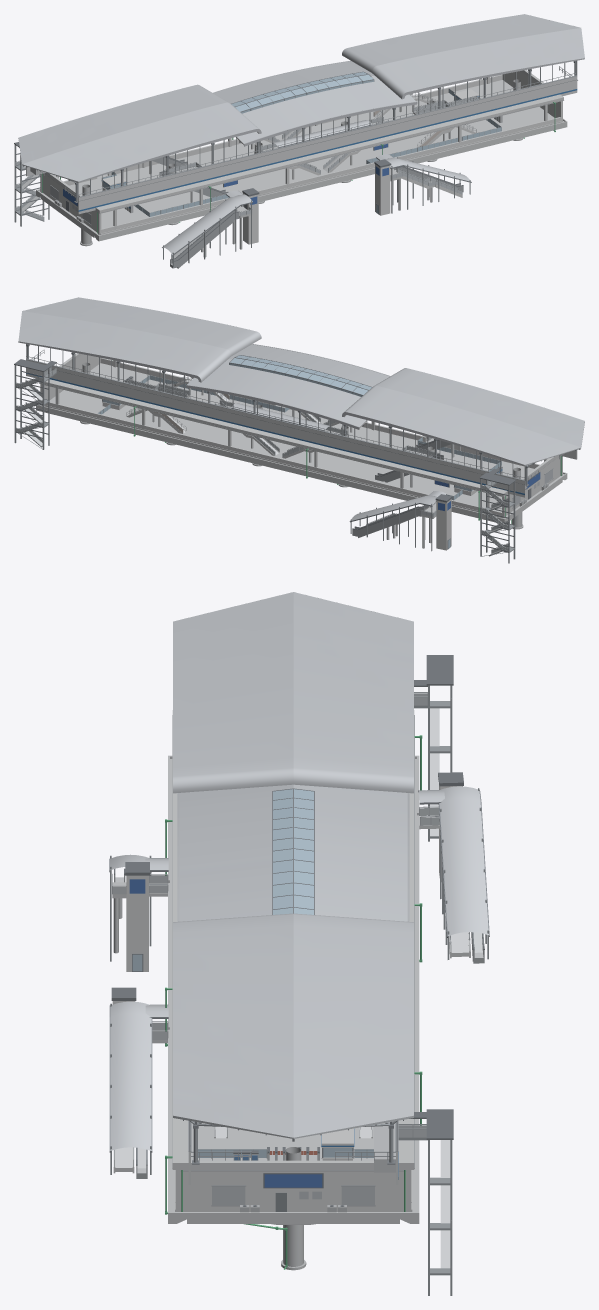
3 views of the same model, one above another, from view 1: azimuth 30°, elevation 25°; view 2: azimuth 150°, elevation 25°; view 3: azimuth 270°, elevation 25° (orthographic). The views are drawn at different scales.
Visible parts, largest first — view 1: BL38, BL38_conc, BL38_access; view 2: BL38, BL38_conc, BL38_access; view 3: BL38, BL38_access, BL38_conc.
Boxes of the visible parts, x1=… form: BL38: x1=18, y1=14, x2=584, y2=214; BL38_conc: x1=36, y1=70, x2=567, y2=246; BL38_access: x1=14, y1=78, x2=555, y2=268; BL38: x1=18, y1=297, x2=584, y2=497; BL38_conc: x1=36, y1=353, x2=567, y2=529; BL38_access: x1=14, y1=359, x2=561, y2=563; BL38: x1=173, y1=592, x2=413, y2=1184; BL38_access: x1=109, y1=655, x2=489, y2=1295; BL38_conc: x1=168, y1=710, x2=419, y2=1270.
Bounding box in the file's own units: 148 × 28 × 43.61.
